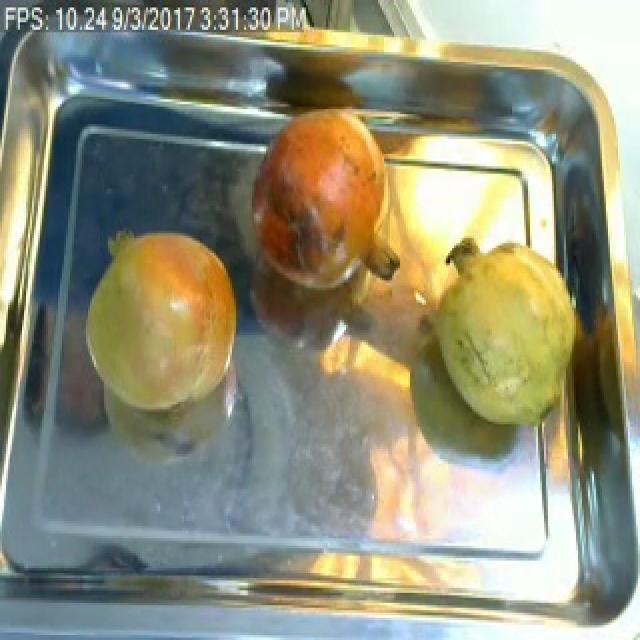fruit: (76, 210, 252, 432), (418, 223, 592, 439), (240, 97, 404, 305)
